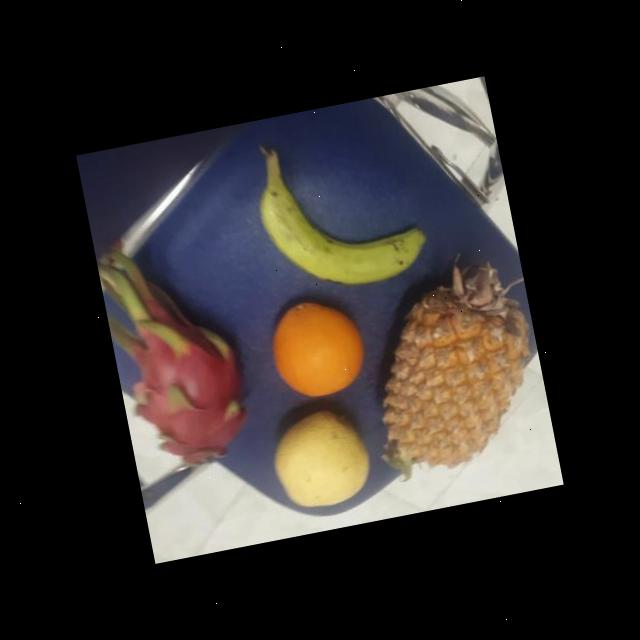banana: (247, 148, 426, 300)
orange: (261, 294, 371, 404)
pineapple: (351, 251, 547, 476)
pitaya: (118, 313, 260, 477)
